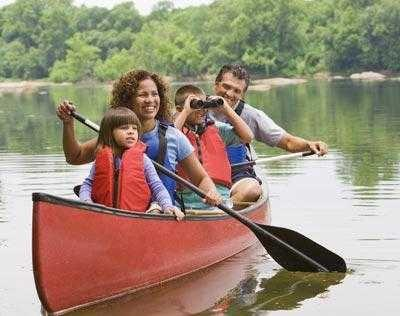kayak: (32, 183, 271, 312)
